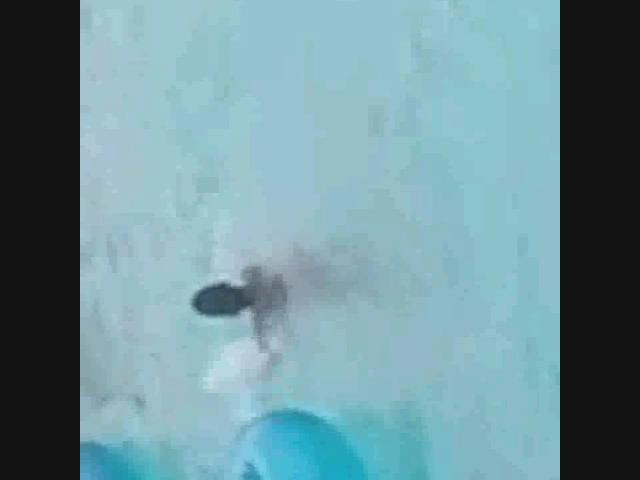drowning: (165, 207, 354, 381)
